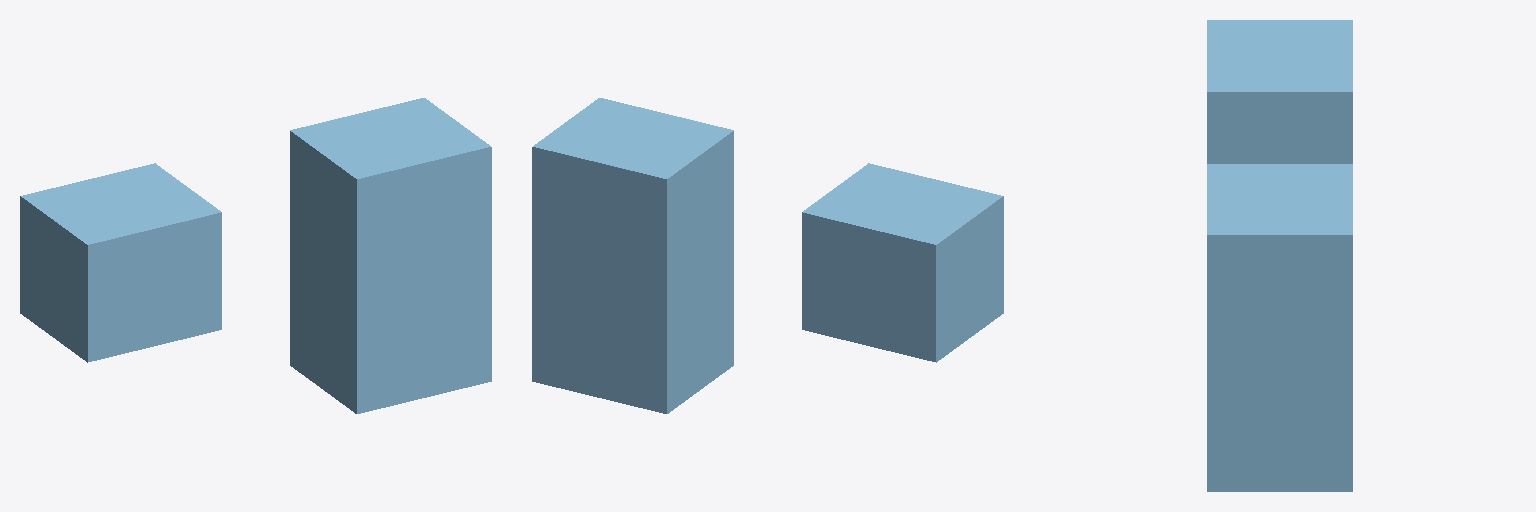
The robot description file, URDF, robot "assembly_1":
<?xml version="1.0" ?>
<robot name="assembly_1">
  <link name="base">
    <inertial>
      <origin rpy="0 0 0" xyz="0 0 0"/>
      <mass value="0.001"/>
      <inertia ixx="0.000001" ixy="0" ixz="0" iyy="0.000001" iyz="0" izz="0.000001"/>
    </inertial>
  </link>
  <joint name="floating_base" type="fixed">
    <origin rpy="0 0 0" xyz="0 0 0"/>
    <parent link="base"/>
    <child link="Part_1"/>
  </joint>
  <link name="Part_1">
    <visual>
      <origin xyz="0 0 0" rpy="0 0 0"/>
      <geometry>
        <mesh filename="meshes/Part_1.stl"/>
      </geometry>
      <material name="Part_1_material">
        <color rgba="0.61568627 0.81176471 0.92941176 1"/>
      </material>
    </visual>
    <collision>
      <origin xyz="0 0 0" rpy="0 0 0"/>
      <geometry>
        <mesh filename="meshes/Part_1.stl"/>
      </geometry>
    </collision>
    <inertial>
      <mass value="0.020388249"/>
      <inertia ixx="2.1983314e-06" iyy="2.5883919e-06" izz="2.6629473e-06" ixy="0" ixz="0" iyz="0"/>
      <origin xyz="0 0 0" rpy="0 0 0"/>
    </inertial>
  </link>
  <joint name="Revolute_1" type="revolute">
    <origin xyz="-0.014987169 0 0" rpy="1.5707963 0 1.5707963"/>
    <parent link="Part_1"/>
    <child link="Part_1_2"/>
    <limit effort="80" velocity="5" lower="-1.5707963" upper="1.5707963"/>
    <axis xyz="0 0 1"/>
  </joint>
  <link name="Part_1_2">
    <visual>
      <origin xyz="0 0 0" rpy="0 0 0"/>
      <geometry>
        <mesh filename="meshes/Part_1_2.stl"/>
      </geometry>
      <material name="Part_1_material_2">
        <color rgba="0.61568627 0.81176471 0.92941176 1"/>
      </material>
    </visual>
    <collision>
      <origin xyz="0 0 0" rpy="0 0 0"/>
      <geometry>
        <mesh filename="meshes/Part_1_2.stl"/>
      </geometry>
    </collision>
    <inertial>
      <mass value="0.020388249"/>
      <inertia ixx="2.5883919e-06" iyy="2.6629473e-06" izz="2.1983314e-06" ixy="0" ixz="0" iyz="0"/>
      <origin xyz="0 0 -0.014987169" rpy="0 0 0"/>
    </inertial>
  </link>
  <joint name="Revolute_2" type="revolute">
    <origin xyz="0.014987169 0 0" rpy="1.5707963 0 1.5707963"/>
    <parent link="Part_1"/>
    <child link="Part_1_3"/>
    <limit effort="80" velocity="5" lower="-1.5707963" upper="1.5707963"/>
    <axis xyz="0 0 -1"/>
  </joint>
  <link name="Part_1_3">
    <visual>
      <origin xyz="0 0 0" rpy="0 0 0"/>
      <geometry>
        <mesh filename="meshes/Part_1_3.stl"/>
      </geometry>
      <material name="Part_1_material_3">
        <color rgba="0.61568627 0.81176471 0.92941176 1"/>
      </material>
    </visual>
    <collision>
      <origin xyz="0 0 0" rpy="0 0 0"/>
      <geometry>
        <mesh filename="meshes/Part_1_3.stl"/>
      </geometry>
    </collision>
    <inertial>
      <mass value="0.020388249"/>
      <inertia ixx="2.5883919e-06" iyy="2.6629473e-06" izz="2.1983314e-06" ixy="0" ixz="0" iyz="0"/>
      <origin xyz="0 0 0.014987169" rpy="0 0 0"/>
    </inertial>
  </link>
  <joint name="Revolute_3" type="revolute">
    <origin xyz="0 -0.0125 -0.014987169" rpy="1.5707963 -1.5707963 0"/>
    <parent link="Part_1_2"/>
    <child link="Part_1_4"/>
    <limit effort="80" velocity="5" lower="-1.5707963" upper="1.5707963"/>
    <axis xyz="0 0 -1"/>
  </joint>
  <link name="Part_1_4">
    <visual>
      <origin xyz="0 0 0" rpy="0 0 0"/>
      <geometry>
        <mesh filename="meshes/Part_1_4.stl"/>
      </geometry>
      <material name="Part_1_material_4">
        <color rgba="0.61568627 0.81176471 0.92941176 1"/>
      </material>
    </visual>
    <collision>
      <origin xyz="0 0 0" rpy="0 0 0"/>
      <geometry>
        <mesh filename="meshes/Part_1_4.stl"/>
      </geometry>
    </collision>
    <inertial>
      <mass value="0.020388249"/>
      <inertia ixx="2.1983314e-06" iyy="2.5883919e-06" izz="2.6629473e-06" ixy="0" ixz="0" iyz="0"/>
      <origin xyz="0 0 0.0125" rpy="0 0 0"/>
    </inertial>
  </link>
  <joint name="Revolute_4" type="revolute">
    <origin xyz="0 -0.0125 0.014987169" rpy="1.5707963 -1.5707963 0"/>
    <parent link="Part_1_3"/>
    <child link="Part_1_5"/>
    <limit effort="80" velocity="5" lower="-1.5707963" upper="1.5707963"/>
    <axis xyz="0 0 -1"/>
  </joint>
  <link name="Part_1_5">
    <visual>
      <origin xyz="0 0 0" rpy="0 0 0"/>
      <geometry>
        <mesh filename="meshes/Part_1_5.stl"/>
      </geometry>
      <material name="Part_1_material_5">
        <color rgba="0.61568627 0.81176471 0.92941176 1"/>
      </material>
    </visual>
    <collision>
      <origin xyz="0 0 0" rpy="0 0 0"/>
      <geometry>
        <mesh filename="meshes/Part_1_5.stl"/>
      </geometry>
    </collision>
    <inertial>
      <mass value="0.020388249"/>
      <inertia ixx="2.1983314e-06" iyy="2.5883919e-06" izz="2.6629473e-06" ixy="0" ixz="0" iyz="0"/>
      <origin xyz="0 0 0.0125" rpy="0 0 0"/>
    </inertial>
  </link>
</robot>

--- What the picture shows (computed from the rendered views, not written in the file) ---
3 views of the same robot in one strip: view 1: azimuth 30°, elevation 25°; view 2: azimuth 150°, elevation 25°; view 3: azimuth 270°, elevation 25° (orthographic).
Model assembly_1 with 6 links and 5 joints (4 revolute, 1 fixed), rooted at base, posed all joints at 0.
Links seen in each view (by area): view 1: Part_1_3, Part_1_2, Part_1_5; view 2: Part_1_3, Part_1_2, Part_1_5; view 3: Part_1_3, Part_1_2, Part_1_5.
Boxes of the visible links, x1,y1,x2,y2 form: Part_1_3: (290, 98, 491, 296); Part_1_2: (20, 163, 221, 362); Part_1_5: (290, 248, 491, 413); Part_1_3: (532, 98, 733, 296); Part_1_2: (802, 163, 1003, 362); Part_1_5: (532, 248, 733, 413); Part_1_3: (1207, 164, 1352, 362); Part_1_2: (1207, 20, 1352, 163); Part_1_5: (1207, 363, 1352, 491).
Bounding box of the posed robot: 0.0899 × 0.0259 × 0.05 m (x, y, z).
Meshes: 5 distinct files referenced, 3 mesh visuals loaded (3 binary STL); not drawn: 2 (reference not matched to a file when rendering).